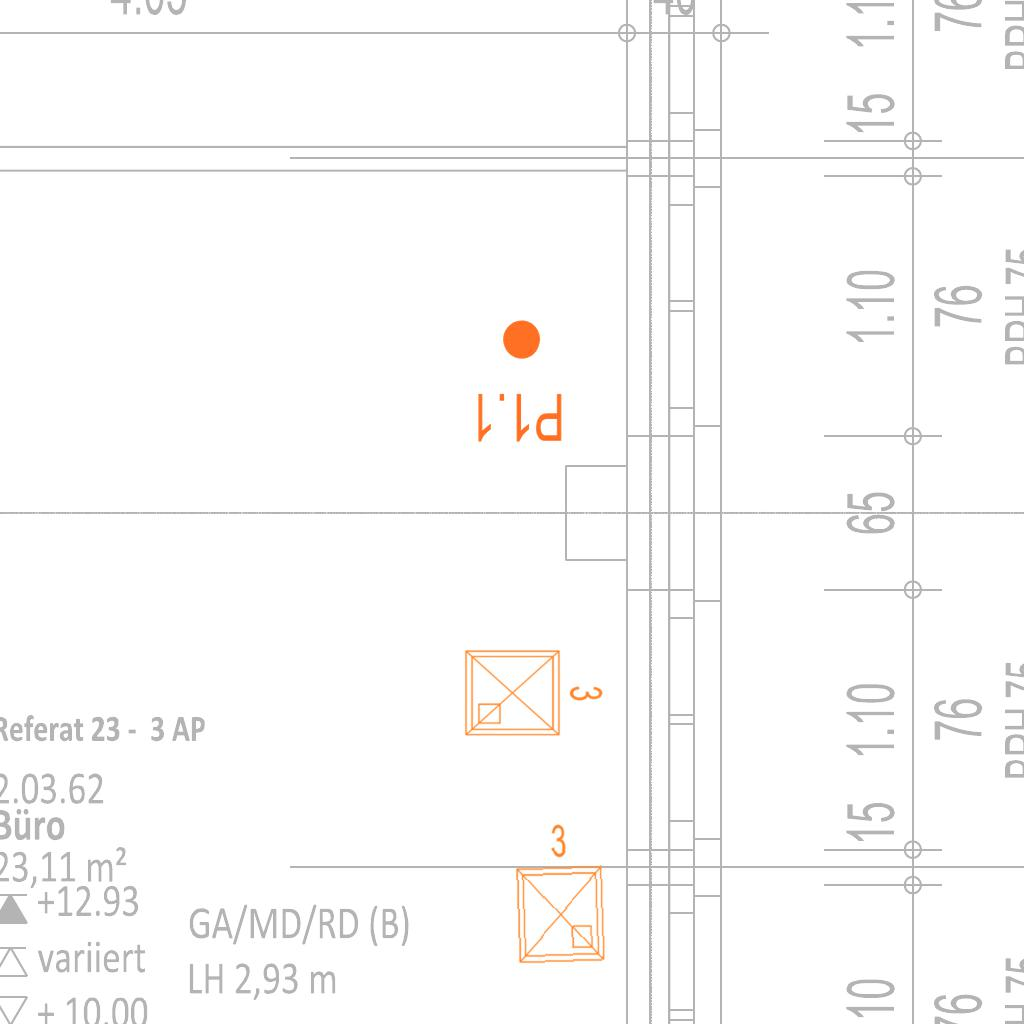Downlight_LED_Einbauleuchten_Flur: (472, 317, 565, 445)
Einbaudownlights_LED_Konferenzraeume: (503, 817, 613, 971), (458, 639, 608, 743)
